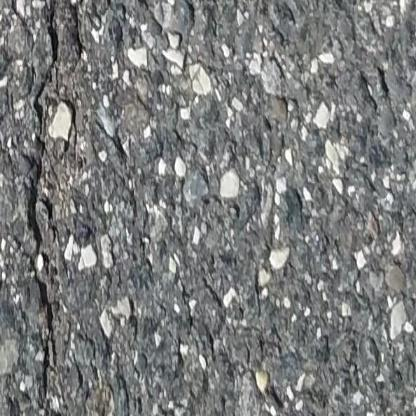Cracks: (24, 0, 101, 416)
